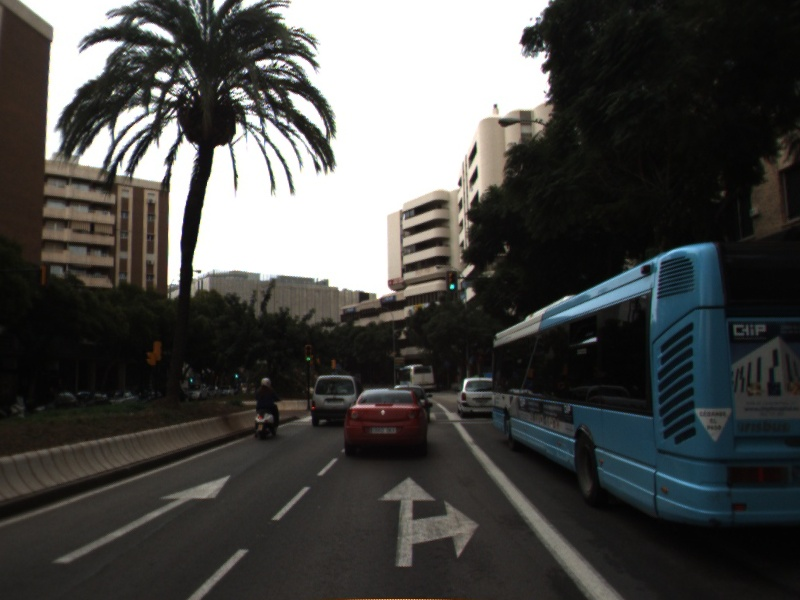STRAIGHT: (50, 473, 233, 566)
STRAIGHT_RIGHT: (373, 473, 483, 569)
